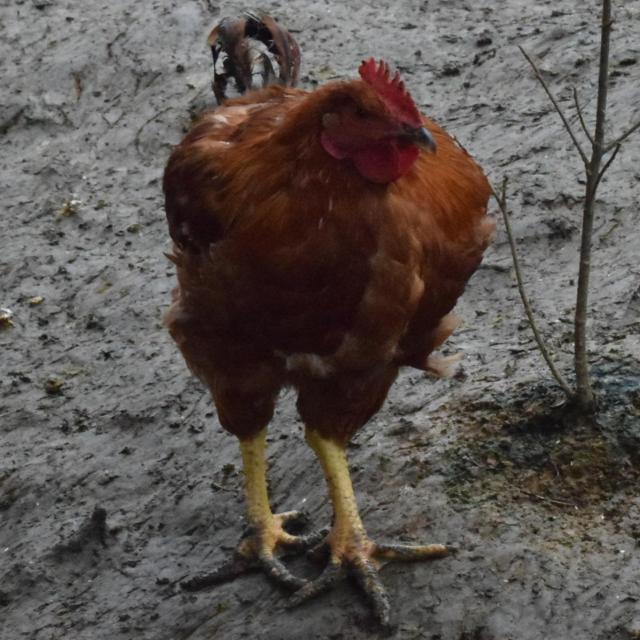cook: (107, 3, 520, 632)
